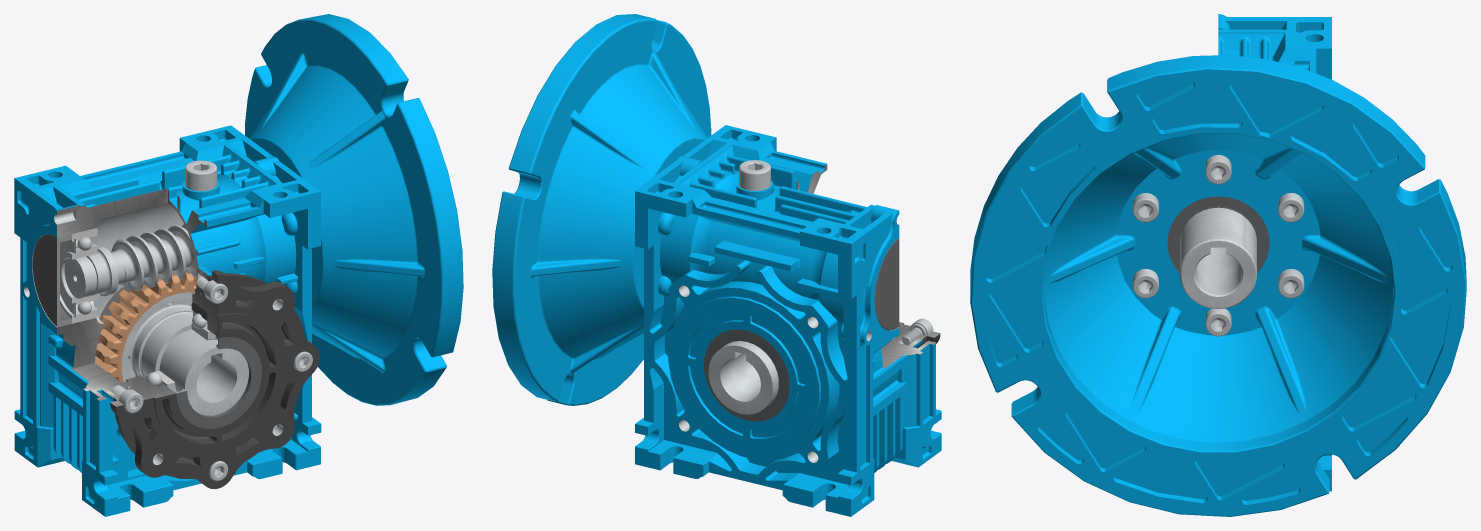
The model's file is warm_gearbox.glb.
3 renders of one model, left to right at view 1: azimuth 30°, elevation 25°; view 2: azimuth 150°, elevation 25°; view 3: azimuth 270°, elevation 25°, orthographic. The views are drawn at different scales.
Visible parts, largest first — view 1: Object_42, Object_43, Object_3, Object_24, Object_41, Object_36, Object_46, Object_2, Object_37, Object_39, Object_25, Object_27 (+1 smaller); view 2: Object_43, Object_42, Object_46, Object_24, Object_41, Object_25; view 3: Object_42, Object_36, Object_43, Object_46, Object_31, Object_33, Object_35, Object_30, Object_34, Object_32.
Boxes of the visible parts, x1,y1,x2,y2 form: Object_42: (245, 14, 463, 405); Object_43: (14, 125, 321, 516); Object_3: (110, 270, 319, 488); Object_24: (121, 292, 248, 415); Object_41: (57, 188, 219, 406); Object_36: (64, 224, 196, 298); Object_46: (32, 234, 261, 428); Object_2: (95, 271, 196, 382); Object_37: (24, 203, 201, 391); Object_39: (72, 228, 207, 384); Object_25: (185, 160, 217, 191); Object_27: (196, 276, 228, 303); Object_43: (635, 125, 941, 516); Object_42: (492, 14, 711, 405); Object_46: (704, 238, 899, 421); Object_24: (708, 341, 778, 414); Object_41: (788, 164, 939, 368); Object_25: (739, 160, 770, 190); Object_42: (970, 55, 1466, 516); Object_36: (1180, 207, 1256, 308); Object_43: (1218, 14, 1331, 491); Object_46: (1167, 196, 1269, 272); Object_31: (1132, 269, 1158, 298); Object_33: (1278, 269, 1304, 298); Object_35: (1205, 155, 1231, 184); Object_30: (1132, 193, 1158, 222); Object_34: (1278, 193, 1304, 222); Object_32: (1205, 308, 1231, 336).
Bounding box in the file's own units: 0.1438 × 0.1699 × 0.1599.
14 materials, 4 textured.
